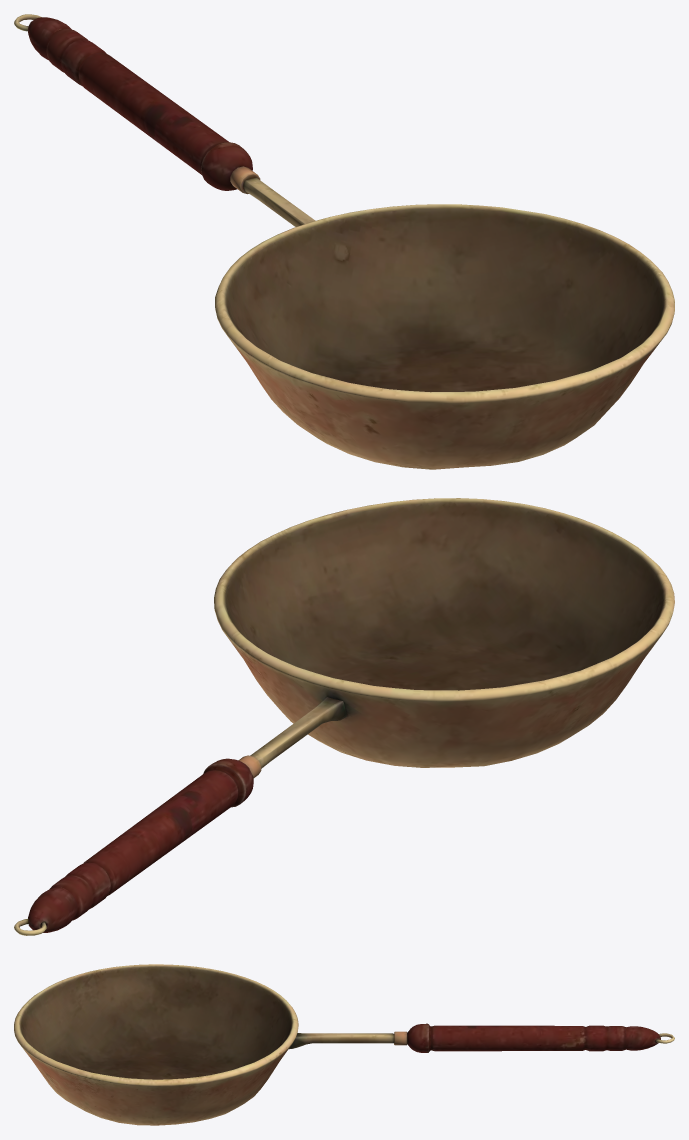
The model's file is brass_pan_01.glb.
3 views of the same model, one above another, from view 1: azimuth 30°, elevation 25°; view 2: azimuth 150°, elevation 25°; view 3: azimuth 270°, elevation 25° (orthographic). The views are drawn at different scales.
Parts seen in each view (by area): view 1: brass_pan_01; view 2: brass_pan_01; view 3: brass_pan_01.
Boxes of the visible parts, x1,y1,x2,y2 form: brass_pan_01: [14, 14, 674, 469]; brass_pan_01: [14, 498, 674, 935]; brass_pan_01: [14, 964, 674, 1125].
Bounding box in the file's own units: 0.1913 × 0.0525 × 0.4497.
1 material, 1 textured.
